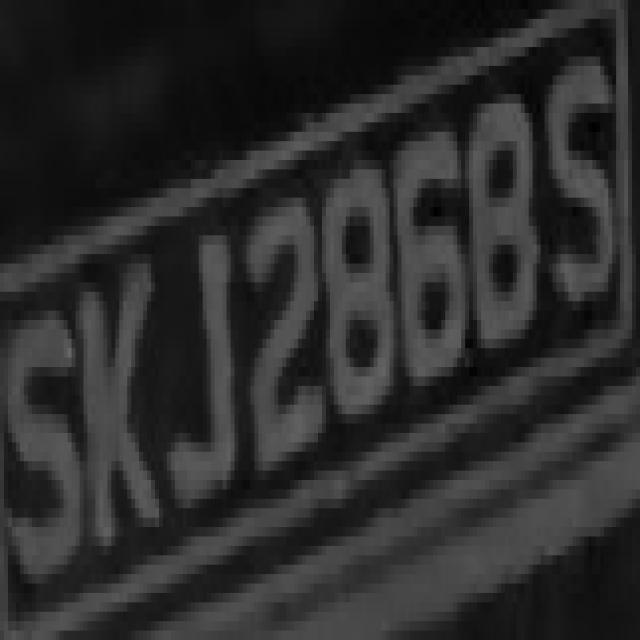2: (242, 169, 318, 499)
6: (382, 113, 473, 414)
8: (306, 150, 398, 442), (457, 85, 541, 358)
J: (155, 207, 246, 518)
K: (79, 236, 163, 584)
S: (4, 282, 79, 630), (541, 56, 628, 330)
